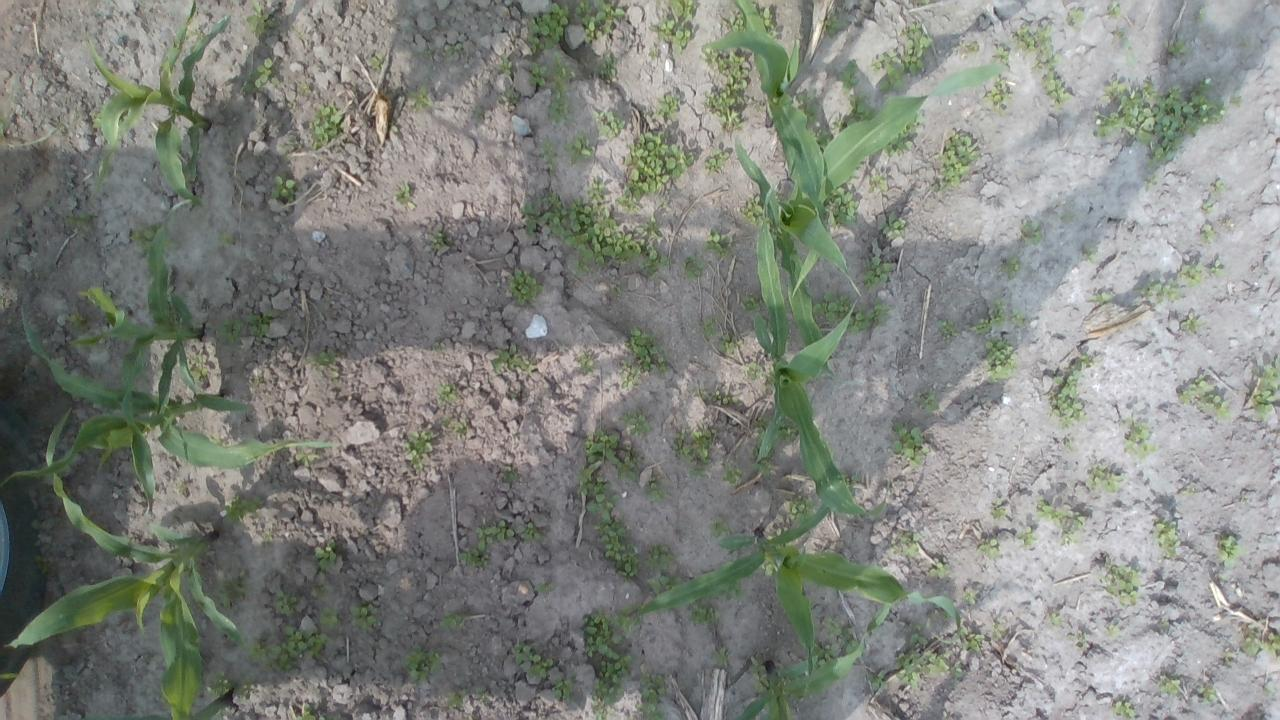Maize: (8, 405, 260, 720), (628, 489, 962, 700), (1, 297, 335, 483), (734, 96, 925, 378), (748, 188, 894, 524), (72, 198, 202, 514), (706, 0, 832, 295), (85, 0, 226, 212), (736, 601, 894, 720), (79, 686, 239, 720)
Weeds: (520, 177, 670, 277), (1093, 78, 1225, 172), (576, 426, 642, 583), (616, 131, 696, 214), (528, 3, 576, 126), (581, 613, 633, 720), (1014, 21, 1072, 108), (871, 23, 934, 90), (246, 624, 328, 674), (704, 47, 751, 130), (1050, 350, 1094, 427), (809, 292, 889, 334), (896, 624, 950, 683), (1032, 495, 1090, 545), (649, 0, 697, 58), (458, 520, 515, 568), (934, 130, 978, 192), (622, 324, 672, 375), (1177, 374, 1232, 419), (573, 0, 626, 45), (512, 640, 558, 684), (670, 425, 718, 466), (1252, 352, 1280, 420), (308, 102, 346, 148), (1216, 534, 1252, 582), (892, 422, 931, 466), (1102, 560, 1140, 605), (635, 670, 669, 720), (401, 646, 443, 686), (819, 186, 860, 225), (982, 339, 1019, 382), (130, 220, 174, 256), (506, 268, 546, 307), (1119, 417, 1156, 459), (828, 613, 864, 656), (214, 572, 254, 610), (978, 76, 1012, 118), (1135, 278, 1184, 306), (493, 344, 538, 374), (1085, 464, 1126, 496), (971, 300, 1007, 336), (1243, 622, 1280, 657), (221, 493, 265, 522), (404, 431, 436, 470), (242, 0, 276, 36), (240, 57, 274, 93), (884, 122, 919, 156), (1152, 517, 1181, 557), (590, 107, 624, 141), (790, 90, 820, 127), (862, 255, 894, 287), (952, 623, 986, 653), (349, 603, 380, 634), (548, 672, 577, 705), (704, 229, 736, 258), (846, 94, 878, 123), (644, 574, 686, 596), (642, 542, 675, 570), (781, 493, 816, 519), (566, 133, 596, 163), (889, 528, 922, 555), (834, 58, 860, 92), (749, 653, 770, 695), (215, 316, 244, 346), (704, 146, 734, 175), (406, 85, 437, 112), (622, 409, 652, 436), (690, 601, 721, 627), (293, 701, 335, 720), (718, 7, 746, 34), (644, 479, 674, 504), (313, 537, 336, 569), (245, 310, 272, 337), (655, 94, 681, 122), (740, 196, 764, 226), (184, 353, 208, 382), (206, 668, 231, 695), (272, 588, 296, 616), (1177, 262, 1202, 288), (1180, 311, 1206, 336), (268, 174, 294, 199), (759, 7, 778, 40), (680, 254, 704, 280), (814, 639, 836, 667), (722, 458, 744, 486), (1117, 31, 1135, 65), (619, 359, 640, 388), (439, 610, 465, 633), (594, 54, 618, 78), (213, 229, 238, 252), (884, 214, 906, 240), (999, 255, 1022, 279), (1066, 6, 1088, 31), (238, 678, 260, 703), (520, 521, 546, 542), (538, 138, 560, 162), (440, 414, 466, 434), (976, 537, 1000, 558), (813, 127, 833, 152), (838, 471, 858, 496), (319, 604, 339, 629), (62, 210, 95, 225), (954, 38, 980, 57), (295, 447, 321, 466), (822, 12, 844, 34), (991, 44, 1012, 67), (1112, 700, 1136, 720), (938, 318, 958, 342), (1086, 290, 1115, 306), (710, 390, 739, 406), (916, 390, 938, 411), (866, 670, 889, 690), (448, 686, 468, 709), (927, 560, 951, 578), (1021, 220, 1041, 241), (1197, 686, 1218, 706), (711, 645, 729, 668), (579, 351, 596, 375), (366, 52, 386, 72), (868, 174, 888, 194), (717, 334, 737, 354), (739, 293, 760, 312), (498, 48, 513, 74), (1160, 677, 1180, 696), (438, 382, 458, 401), (393, 183, 412, 203), (991, 496, 1006, 521), (751, 461, 770, 480), (1018, 526, 1036, 546), (444, 40, 465, 57), (1166, 39, 1188, 55), (499, 86, 517, 105), (67, 312, 86, 330), (712, 519, 730, 538), (783, 424, 801, 442), (1208, 179, 1228, 195), (1200, 224, 1216, 244), (316, 350, 336, 366), (766, 526, 788, 540), (751, 415, 769, 432), (1106, 1, 1122, 20), (959, 588, 978, 604), (702, 318, 718, 337), (500, 466, 520, 481), (474, 685, 490, 703), (992, 622, 1006, 642), (1072, 630, 1088, 647), (744, 362, 760, 379), (430, 231, 445, 249), (1193, 8, 1208, 26), (1011, 310, 1026, 327), (1048, 613, 1064, 628), (534, 582, 554, 594), (1220, 647, 1237, 661), (688, 466, 704, 480), (1178, 488, 1200, 498), (1084, 244, 1096, 262), (432, 340, 447, 354), (174, 316, 187, 332), (1106, 623, 1119, 639), (830, 118, 844, 132), (1207, 264, 1223, 276), (1228, 94, 1244, 106), (0, 112, 9, 132), (951, 662, 962, 678), (174, 480, 186, 494), (116, 354, 128, 368), (96, 328, 106, 344), (1202, 199, 1214, 212), (91, 114, 102, 128), (1158, 622, 1170, 634), (262, 530, 274, 542), (1063, 439, 1074, 450), (942, 610, 954, 620), (752, 2, 760, 12), (920, 0, 929, 4)
